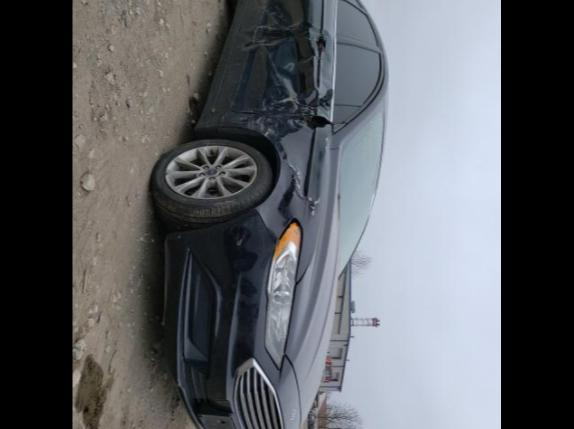Broken part: (288, 113, 334, 128), (226, 110, 286, 118)
Dent: (214, 22, 332, 240)
Missing part: (328, 108, 350, 134), (198, 416, 236, 429)
Scratch: (252, 26, 278, 42), (270, 96, 298, 108), (292, 176, 304, 198), (288, 162, 302, 180), (286, 22, 302, 30), (308, 196, 320, 204), (308, 204, 314, 216), (296, 120, 308, 126), (256, 116, 264, 124), (248, 120, 254, 130), (324, 138, 330, 146), (288, 120, 294, 128), (264, 130, 270, 136), (240, 116, 248, 120)
